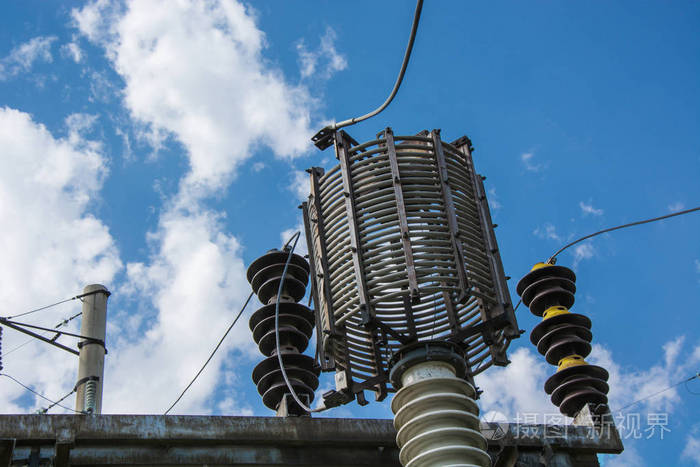insulator: (248, 355, 326, 409), (541, 364, 614, 412), (530, 312, 597, 361), (244, 307, 320, 349), (244, 252, 312, 296), (516, 262, 579, 309)
